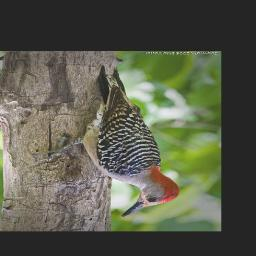Woodpecker: (28, 65, 190, 220)
